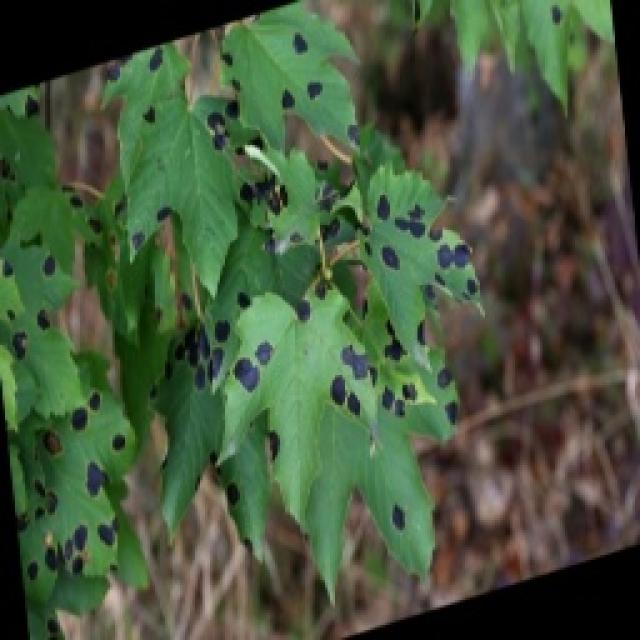Tar_Spot: (154, 61, 471, 424)
